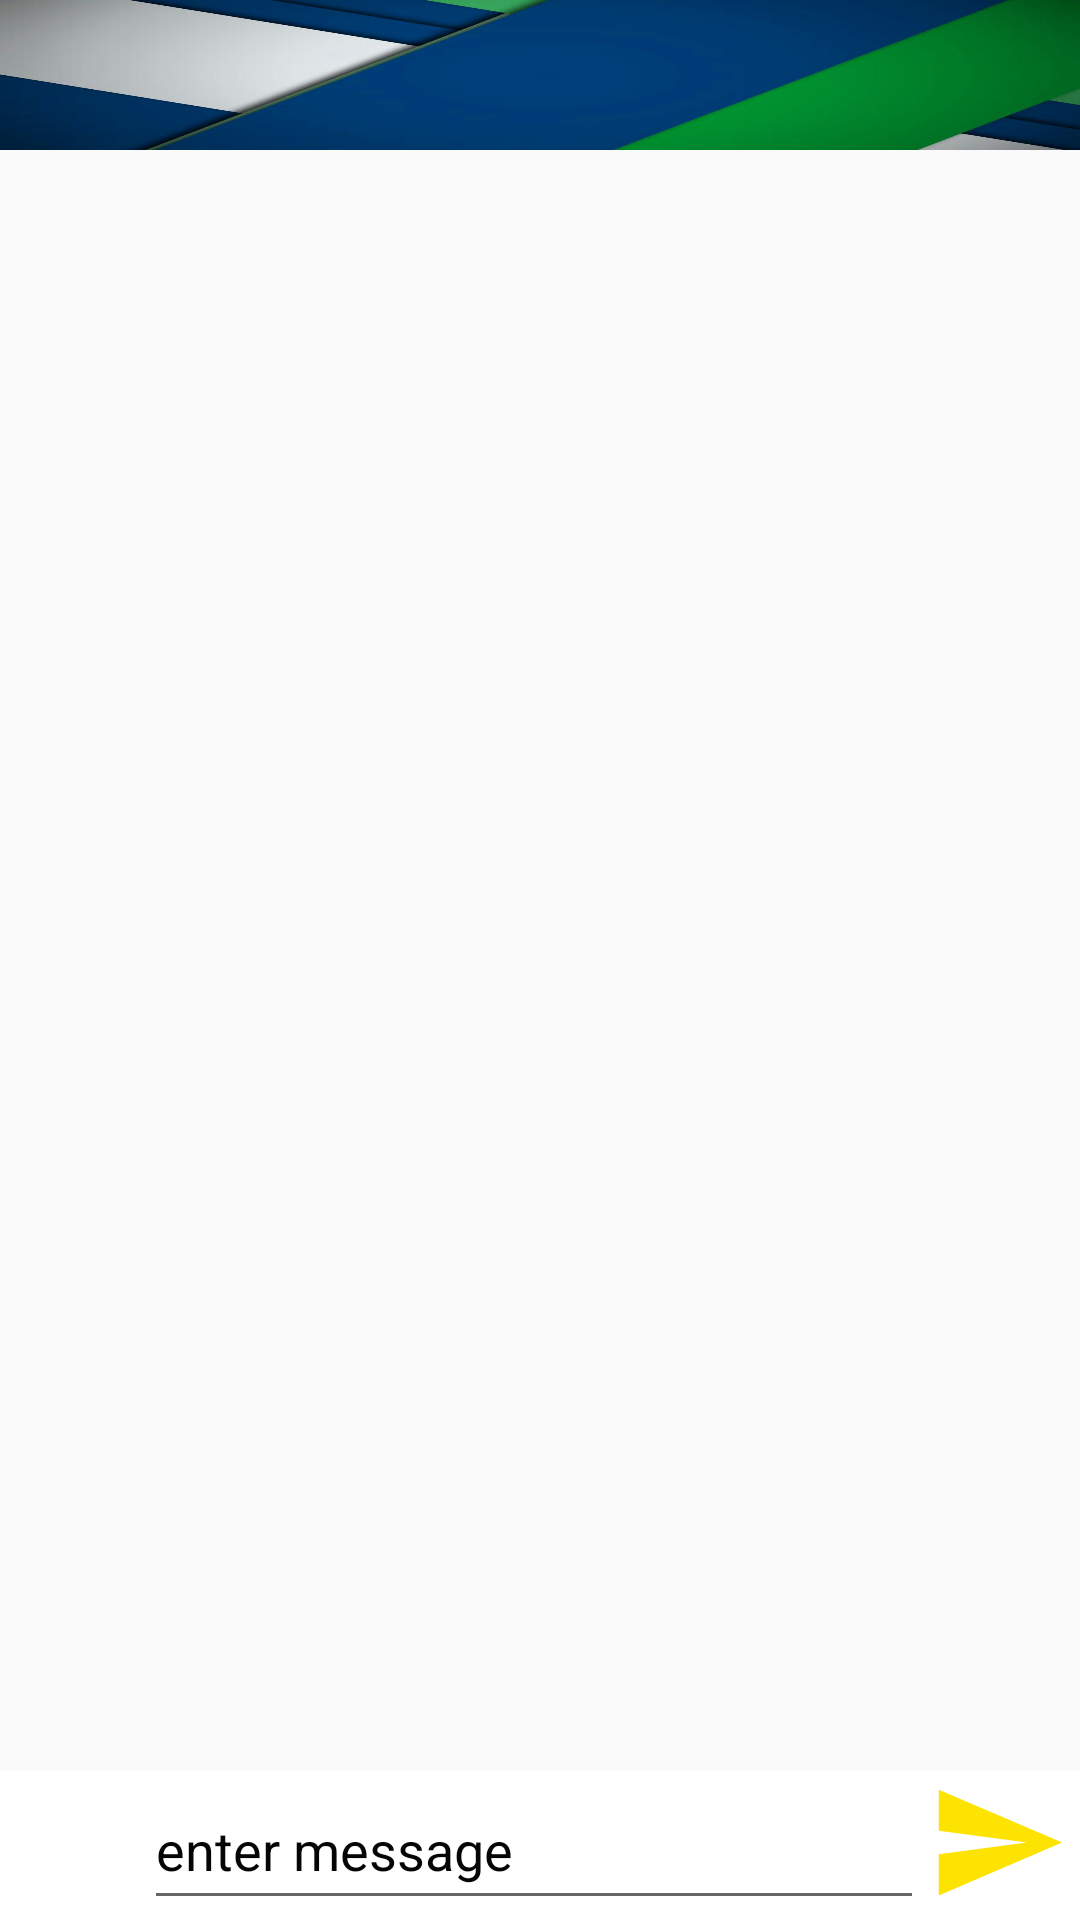

Where icons sit on this 1080 × 1920 app screen, as detection(x1, y1, x2, y2):
send: detection(938, 1790, 1062, 1896)
